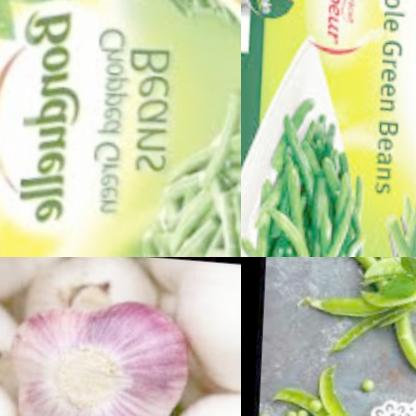fasol: (251, 86, 389, 257), (117, 77, 241, 257), (76, 0, 241, 52), (385, 179, 416, 257)
garlic: (6, 284, 188, 416), (16, 257, 165, 345), (176, 257, 241, 397)
peas: (302, 257, 416, 368), (269, 361, 374, 416), (260, 398, 323, 416), (357, 369, 389, 400)
